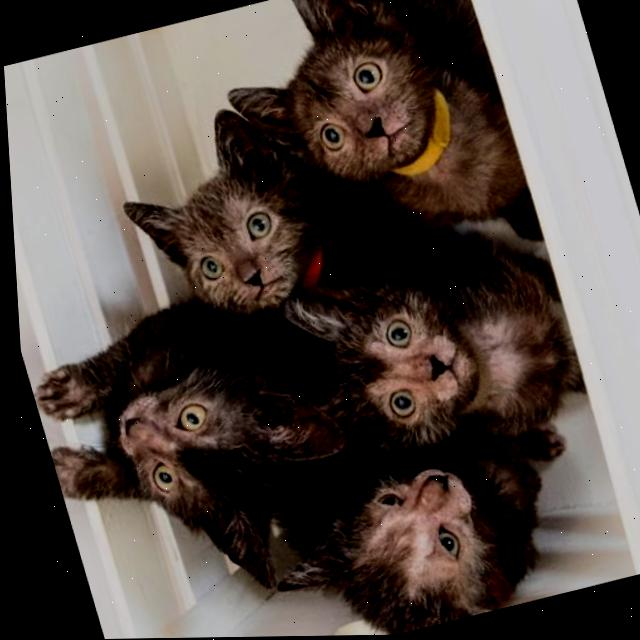Lykoi: (13, 280, 368, 632), (206, 0, 535, 281), (242, 231, 592, 488), (270, 422, 607, 637), (85, 87, 348, 356)
